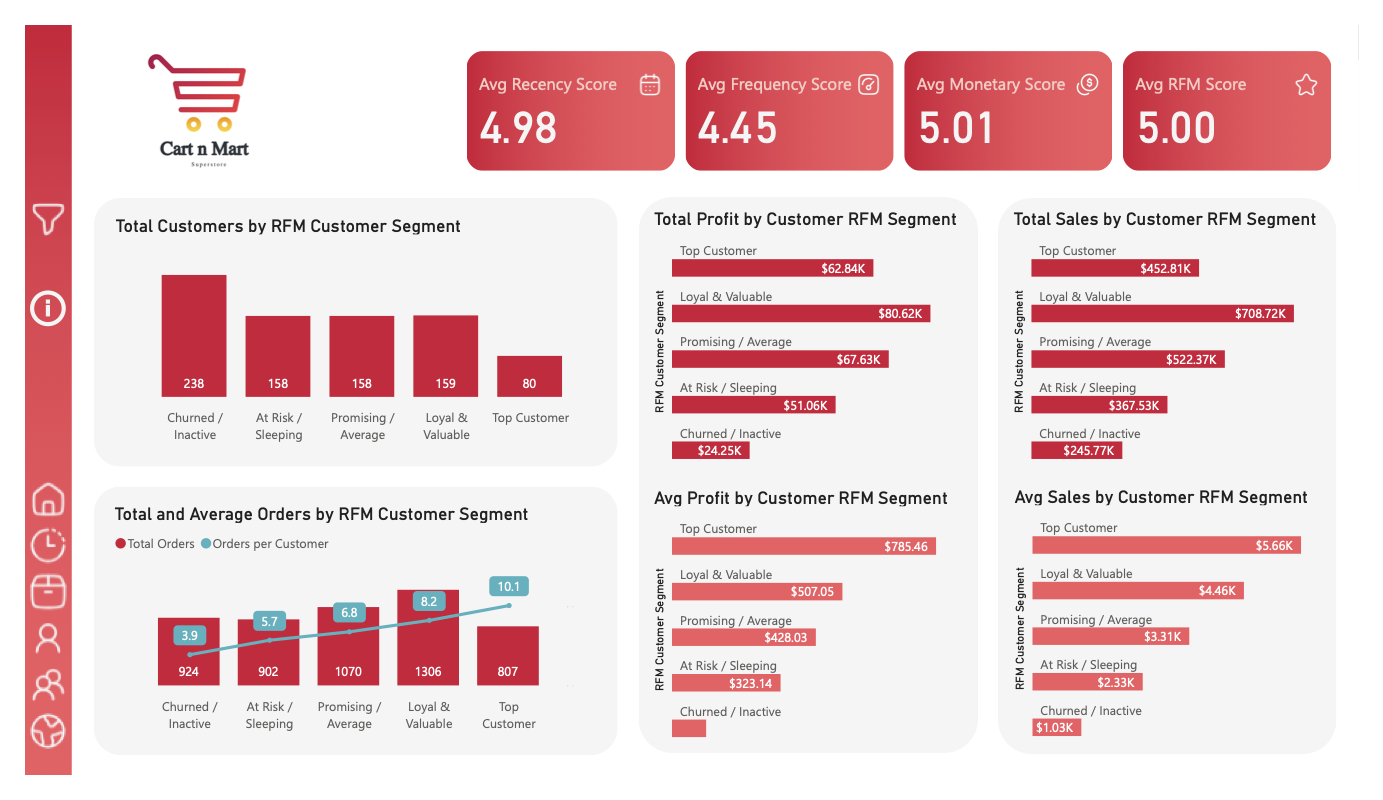

Layout of this report page (visuals, bound fields, positions):
{"tool":"powerbi","page":{"name":"Customers RFM","canvas":[1280,720],"ordinal":4},"visuals":[{"type":"cardVisual","title":"NavBar","fields":{"Data":["Measures Table.Dummy Title"]},"box":[0,0,45,720],"z":0,"group":"g6"},{"type":"image","box":[65.6,20,214,125],"z":0},{"type":"shape","title":"BG","box":[588.9,165,325.6,534.4],"z":0,"group":"g3"},{"type":"shape","title":"BG","box":[65.6,165.6,503.3,257.8],"z":0,"group":"g5"},{"type":"shape","title":"BG","box":[934.4,165.6,325,534],"z":0,"group":"g2"},{"type":"actionButton","title":"Home Button","box":[0,432.6,44.6,44.6],"z":0,"group":"g1"},{"type":"shape","title":"BG","box":[65.6,443.3,503.3,257.8],"z":0,"group":"g4"},{"type":"cardVisual","title":"KPIs","fields":{"Data":["Avg(DimCustomers.Recency Score)","Avg(DimCustomers.Frequency Score)","Avg(DimCustomers.Monetary Score)","Avg(DimCustomers.RFM Score)"]},"box":[418.8,20.3,840.6,125],"z":1000},{"type":"clusteredBarChart","title":"Total Profit by Customer RFM Segment","fields":{"Category":["DimCustomers.RFM Customer Segment"],"Y":["Measures Table.Customer RFM Segment Placeholder","Measures Table.Total Profit"]},"box":[598.9,175.6,305.6,247],"z":1000,"group":"g3"},{"type":"clusteredColumnChart","title":"Total Customers by RFM Customer Segment","fields":{"Category":["DimCustomers.RFM Customer Segment"],"Y":["Measures Table.Total Customers"]},"box":[81.2,181.2,473.3,226.7],"z":1000,"group":"g5"},{"type":"group","id":"g1","title":"NavBar Buttons","box":[0,432.6,44.6,267.4],"z":1000,"group":"g6"},{"type":"clusteredBarChart","title":"Avg Sales by Customer RFM Segment","fields":{"Category":["DimCustomers.RFM Customer Segment"],"Y":["Measures Table.Customer RFM Segment Placeholder","Measures Table.Avg Sales"]},"box":[945.5,442,305.6,247],"z":1000,"group":"g2"},{"type":"lineStackedColumnComboChart","title":"Total and Average Orders by RFM Customer Segment","fields":{"Category":["DimCustomers.RFM Customer Segment"],"Y":["Measures Table.Total Orders"],"Y2":["Measures Table.Avg Orders"]},"box":[80.6,458.9,473.3,226.7],"z":1000,"group":"g4"},{"type":"actionButton","title":"Time Button","box":[0,477.2,44.6,44.6],"z":1000,"group":"g1"},{"type":"actionButton","title":"Filter Button","box":[0,164.1,44.6,44.6],"z":2000,"group":"g6"},{"type":"group","id":"g2","title":"Sales by Customer RFM Segment with BG","box":[934.4,165.6,325,534],"z":2000},{"type":"clusteredBarChart","title":"Total Sales by Customer RFM Segment","fields":{"Category":["DimCustomers.RFM Customer Segment"],"Y":["Measures Table.Customer RFM Segment Placeholder","Measures Table.Total Sales"]},"box":[944.1,176,305.6,247],"z":2000,"group":"g2"},{"type":"clusteredBarChart","title":"Avg Profit by Customer RFM Segment","fields":{"Category":["DimCustomers.RFM Customer Segment"],"Y":["Measures Table.Customer RFM Segment Placeholder","Measures Table.Avg Profit"]},"box":[598.9,443.3,305.6,246.7],"z":2000,"group":"g3"},{"type":"actionButton","title":"Products Button","box":[0,521.7,44.6,44.6],"z":2000,"group":"g1"},{"type":"group","id":"g3","title":"Profit by Customer RFM Segment with BG","box":[588.9,165,325.6,534.4],"z":3000},{"type":"actionButton","title":"Customers Button","box":[0,566.3,44.6,44.6],"z":3000,"group":"g1"},{"type":"group","id":"g4","title":"Total and Average Orders by RFM Customer Segment with BG","box":[65.6,443.3,503.3,257.8],"z":4000},{"type":"actionButton","title":"Customers RFM Button","box":[0,610.9,44.6,44.6],"z":4000,"group":"g1"},{"type":"actionButton","title":"Territory Button","box":[0,655.4,44.6,44.6],"z":5000,"group":"g1"},{"type":"group","id":"g5","title":"Total Customers by RFM Customer Segment with BG","box":[65.6,165.6,503.3,257.8],"z":6000},{"type":"group","id":"g6","title":"Navbar home","box":[0,0,45.7,719.6],"z":7000},{"type":"actionButton","title":"Slicers warning","box":[0,250,44,44],"z":7500}]}

Visuals, with their boxes in screenshot pixels (x1, y1, x2, y2), scaled from the page's 1280x720 canvas onto the 1383x800 screenshot:
"NavBar" cardVisual: <region>0, 0, 49, 799</region>
image: <region>71, 22, 302, 161</region>
"BG" shape: <region>636, 183, 988, 777</region>
"BG" shape: <region>71, 184, 615, 470</region>
"BG" shape: <region>1010, 184, 1361, 777</region>
"Home Button" actionButton: <region>0, 481, 48, 530</region>
"BG" shape: <region>71, 493, 615, 779</region>
"KPIs" cardVisual: <region>453, 23, 1361, 161</region>
"Total Profit by Customer RFM Segment" clusteredBarChart: <region>647, 195, 977, 470</region>
"Total Customers by RFM Customer Segment" clusteredColumnChart: <region>88, 201, 599, 453</region>
"NavBar Buttons" group: <region>0, 481, 48, 778</region>
"Avg Sales by Customer RFM Segment" clusteredBarChart: <region>1022, 491, 1352, 766</region>
"Total and Average Orders by RFM Customer Segment" lineStackedColumnComboChart: <region>87, 510, 598, 762</region>
"Time Button" actionButton: <region>0, 530, 48, 580</region>
"Filter Button" actionButton: <region>0, 182, 48, 232</region>
"Sales by Customer RFM Segment with BG" group: <region>1010, 184, 1361, 777</region>
"Total Sales by Customer RFM Segment" clusteredBarChart: <region>1020, 196, 1350, 470</region>
"Avg Profit by Customer RFM Segment" clusteredBarChart: <region>647, 493, 977, 767</region>
"Products Button" actionButton: <region>0, 580, 48, 629</region>
"Profit by Customer RFM Segment with BG" group: <region>636, 183, 988, 777</region>
"Customers Button" actionButton: <region>0, 629, 48, 679</region>
"Total and Average Orders by RFM Customer Segment with BG" group: <region>71, 493, 615, 779</region>
"Customers RFM Button" actionButton: <region>0, 679, 48, 728</region>
"Territory Button" actionButton: <region>0, 728, 48, 778</region>
"Total Customers by RFM Customer Segment with BG" group: <region>71, 184, 615, 470</region>
"Navbar home" group: <region>0, 0, 49, 799</region>
"Slicers warning" actionButton: <region>0, 278, 48, 327</region>
